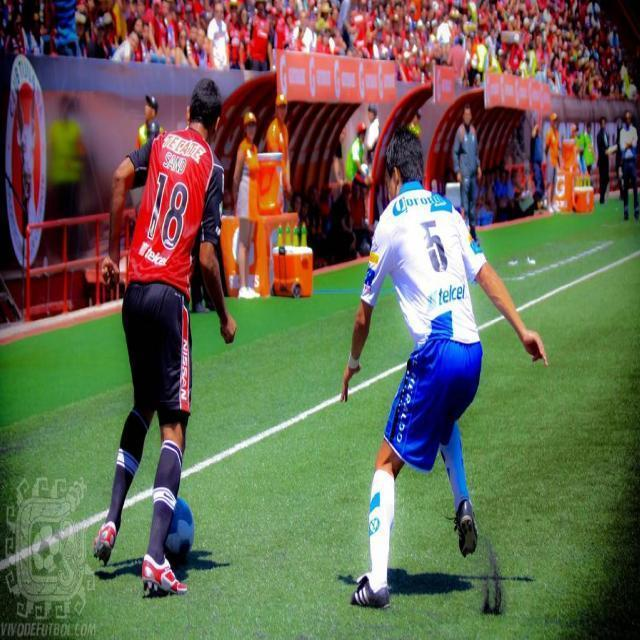ball: (164, 495, 196, 570)
